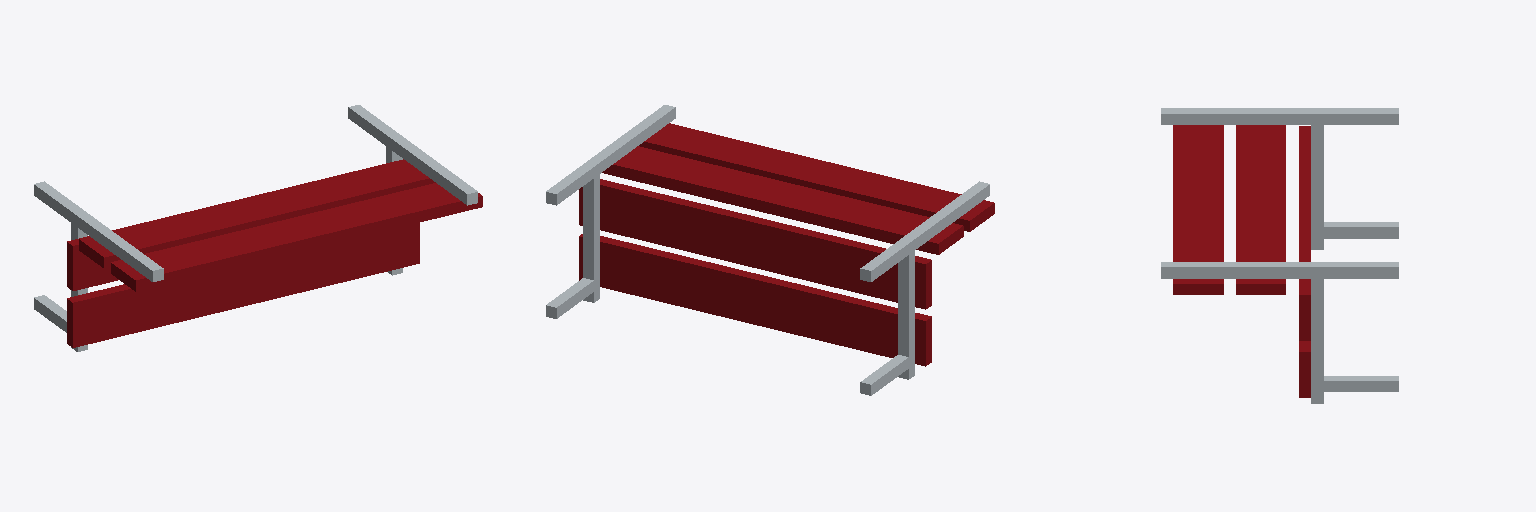
File: tinker.obj
3 renders of one model, left to right at view 1: azimuth 30°, elevation 25°; view 2: azimuth 150°, elevation 25°; view 3: azimuth 270°, elevation 25°, orthographic.
Parts seen in each view (by area): view 1: obj_0; view 2: obj_0; view 3: obj_0.
Boxes of the visible parts, x1=… form: obj_0: x1=34, y1=105, x2=482, y2=351; obj_0: x1=546, y1=105, x2=994, y2=395; obj_0: x1=1161, y1=108, x2=1398, y2=403.
Size of the model in its own units: 32 by 12 by 19.